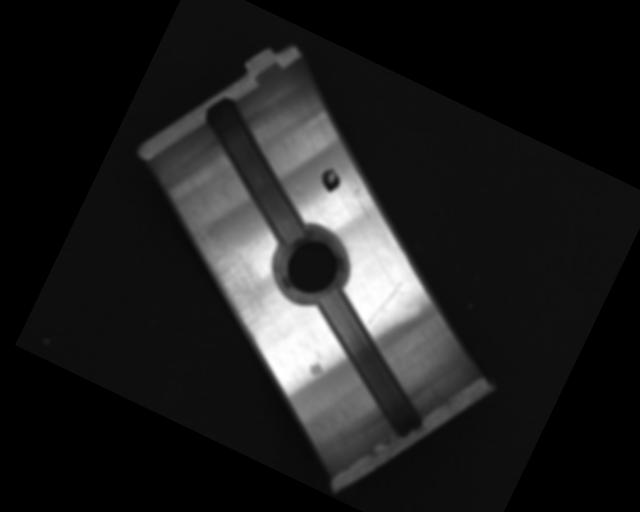blot: (315, 164, 345, 196)
bruise: (305, 358, 327, 380)
gap: (282, 283, 459, 443), (170, 93, 344, 250)
hole: (259, 213, 364, 318)
nick: (367, 274, 405, 330)
scratch: (151, 215, 296, 346)
